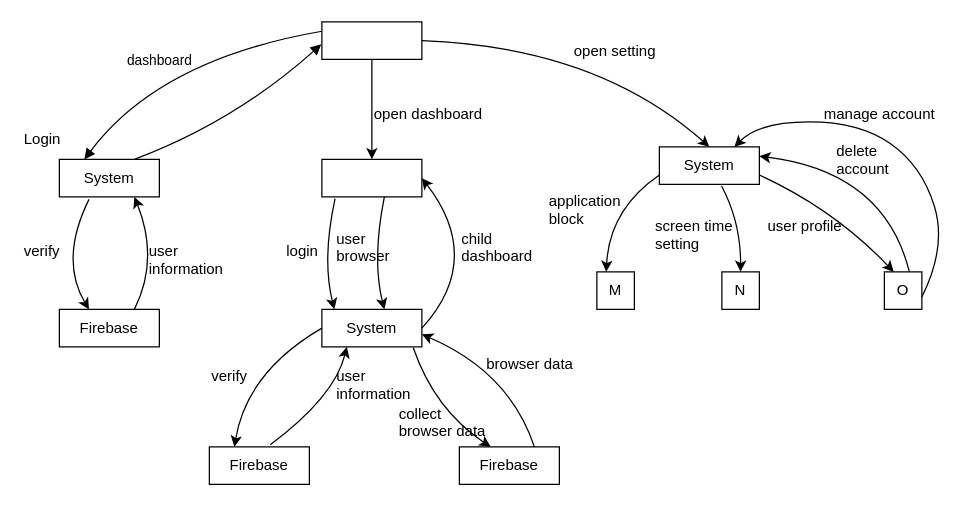
This 980x506 diagram has some shape labels left out. Here are the shapes that lost their labels. From the top down, the box of each, then its label:
(321, 21, 422, 59): Parent
(321, 158, 422, 197): Child
